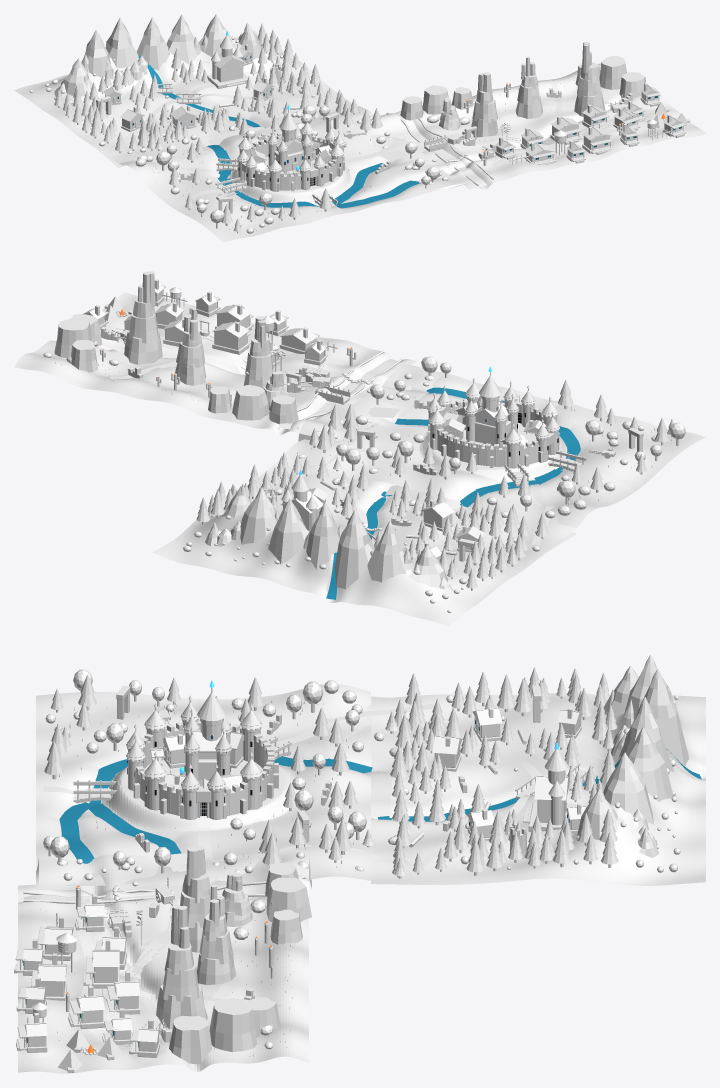
File: castle-desert-mountains-combined.glb
3 renders of one model, top to bottom at view 1: azimuth 30°, elevation 25°; view 2: azimuth 150°, elevation 25°; view 3: azimuth 270°, elevation 25°, orthographic. The views are drawn at different scales.
Visible parts, largest first — view 1: Castle Valley Terrain, Detailed Ember Dunes Terrain, Detailed Alpine Mountain Terrain, Natural castle valley to mountain foothills, Wide natural grass to desert transition, Main blue river, High Crown Peak, Silver Needle Peak, Twin Moon Peak, Frostfang Peak, Boundary cliff.004, Western Sentinel Peak (+15 smaller); view 2: Castle Valley Terrain, Detailed Alpine Mountain Terrain, Detailed Ember Dunes Terrain, Natural castle valley to mountain foothills, Wide natural grass to desert transition, High Crown Peak, Twin Moon Peak, Frostfang Peak, Silver Needle Peak, Eastern Rampart Peak, Main blue river, Boundary cliff.001 (+13 smaller); view 3: Castle Valley Terrain, Detailed Alpine Mountain Terrain, Detailed Ember Dunes Terrain, Natural castle valley to mountain foothills, Wide natural grass to desert transition, Boundary cliff.004, Main blue river, High Crown Peak, Eastern Rampart Peak, Twin Moon Peak, Boundary cliff.005, Boundary cliff.001 (+16 smaller).
Boxes of the visible parts, <box> form: Castle Valley Terrain: <box>119,106,463,242</box>; Detailed Ember Dunes Terrain: <box>385,63,705,189</box>; Detailed Alpine Mountain Terrain: <box>14,30,351,168</box>; Natural castle valley to mountain foothills: <box>110,100,369,166</box>; Wide natural grass to desert transition: <box>341,114,471,193</box>; Main blue river: <box>207,145,384,207</box>; High Crown Peak: <box>105,17,138,67</box>; Silver Needle Peak: <box>137,17,169,70</box>; Twin Moon Peak: <box>166,15,199,64</box>; Frostfang Peak: <box>81,30,110,77</box>; Boundary cliff.004: <box>599,56,626,89</box>; Western Sentinel Peak: <box>61,58,94,96</box>; Castle Valley Terrain: <box>282,371,705,528</box>; Detailed Alpine Mountain Terrain: <box>152,461,576,626</box>; Detailed Ember Dunes Terrain: <box>14,292,416,434</box>; Natural castle valley to mountain foothills: <box>267,443,588,540</box>; Wide natural grass to desert transition: <box>298,362,444,445</box>; High Crown Peak: <box>335,509,374,589</box>; Twin Moon Peak: <box>268,498,308,564</box>; Frostfang Peak: <box>367,521,406,582</box>; Silver Needle Peak: <box>306,502,340,569</box>; Eastern Rampart Peak: <box>240,487,277,544</box>; Main blue river: <box>395,418,580,507</box>; Boundary cliff.001: <box>232,385,268,420</box>; Castle Valley Terrain: <box>36,684,370,885</box>; Detailed Alpine Mountain Terrain: <box>371,693,705,885</box>; Detailed Ember Dunes Terrain: <box>18,875,308,1073</box>; Natural castle valley to mountain foothills: <box>324,690,416,882</box>; Wide natural grass to desert transition: <box>36,845,311,894</box>; Boundary cliff.004: <box>209,998,256,1052</box>; Main blue river: <box>89,756,372,854</box>; High Crown Peak: <box>637,669,689,766</box>; Eastern Rampart Peak: <box>603,752,654,824</box>; Twin Moon Peak: <box>628,726,673,801</box>; Boundary cliff.005: <box>169,1015,212,1064</box>; Boundary cliff.001: <box>266,877,311,921</box>.
Bounding box in the file's own units: 48.4 × 7.68 × 38.01.
